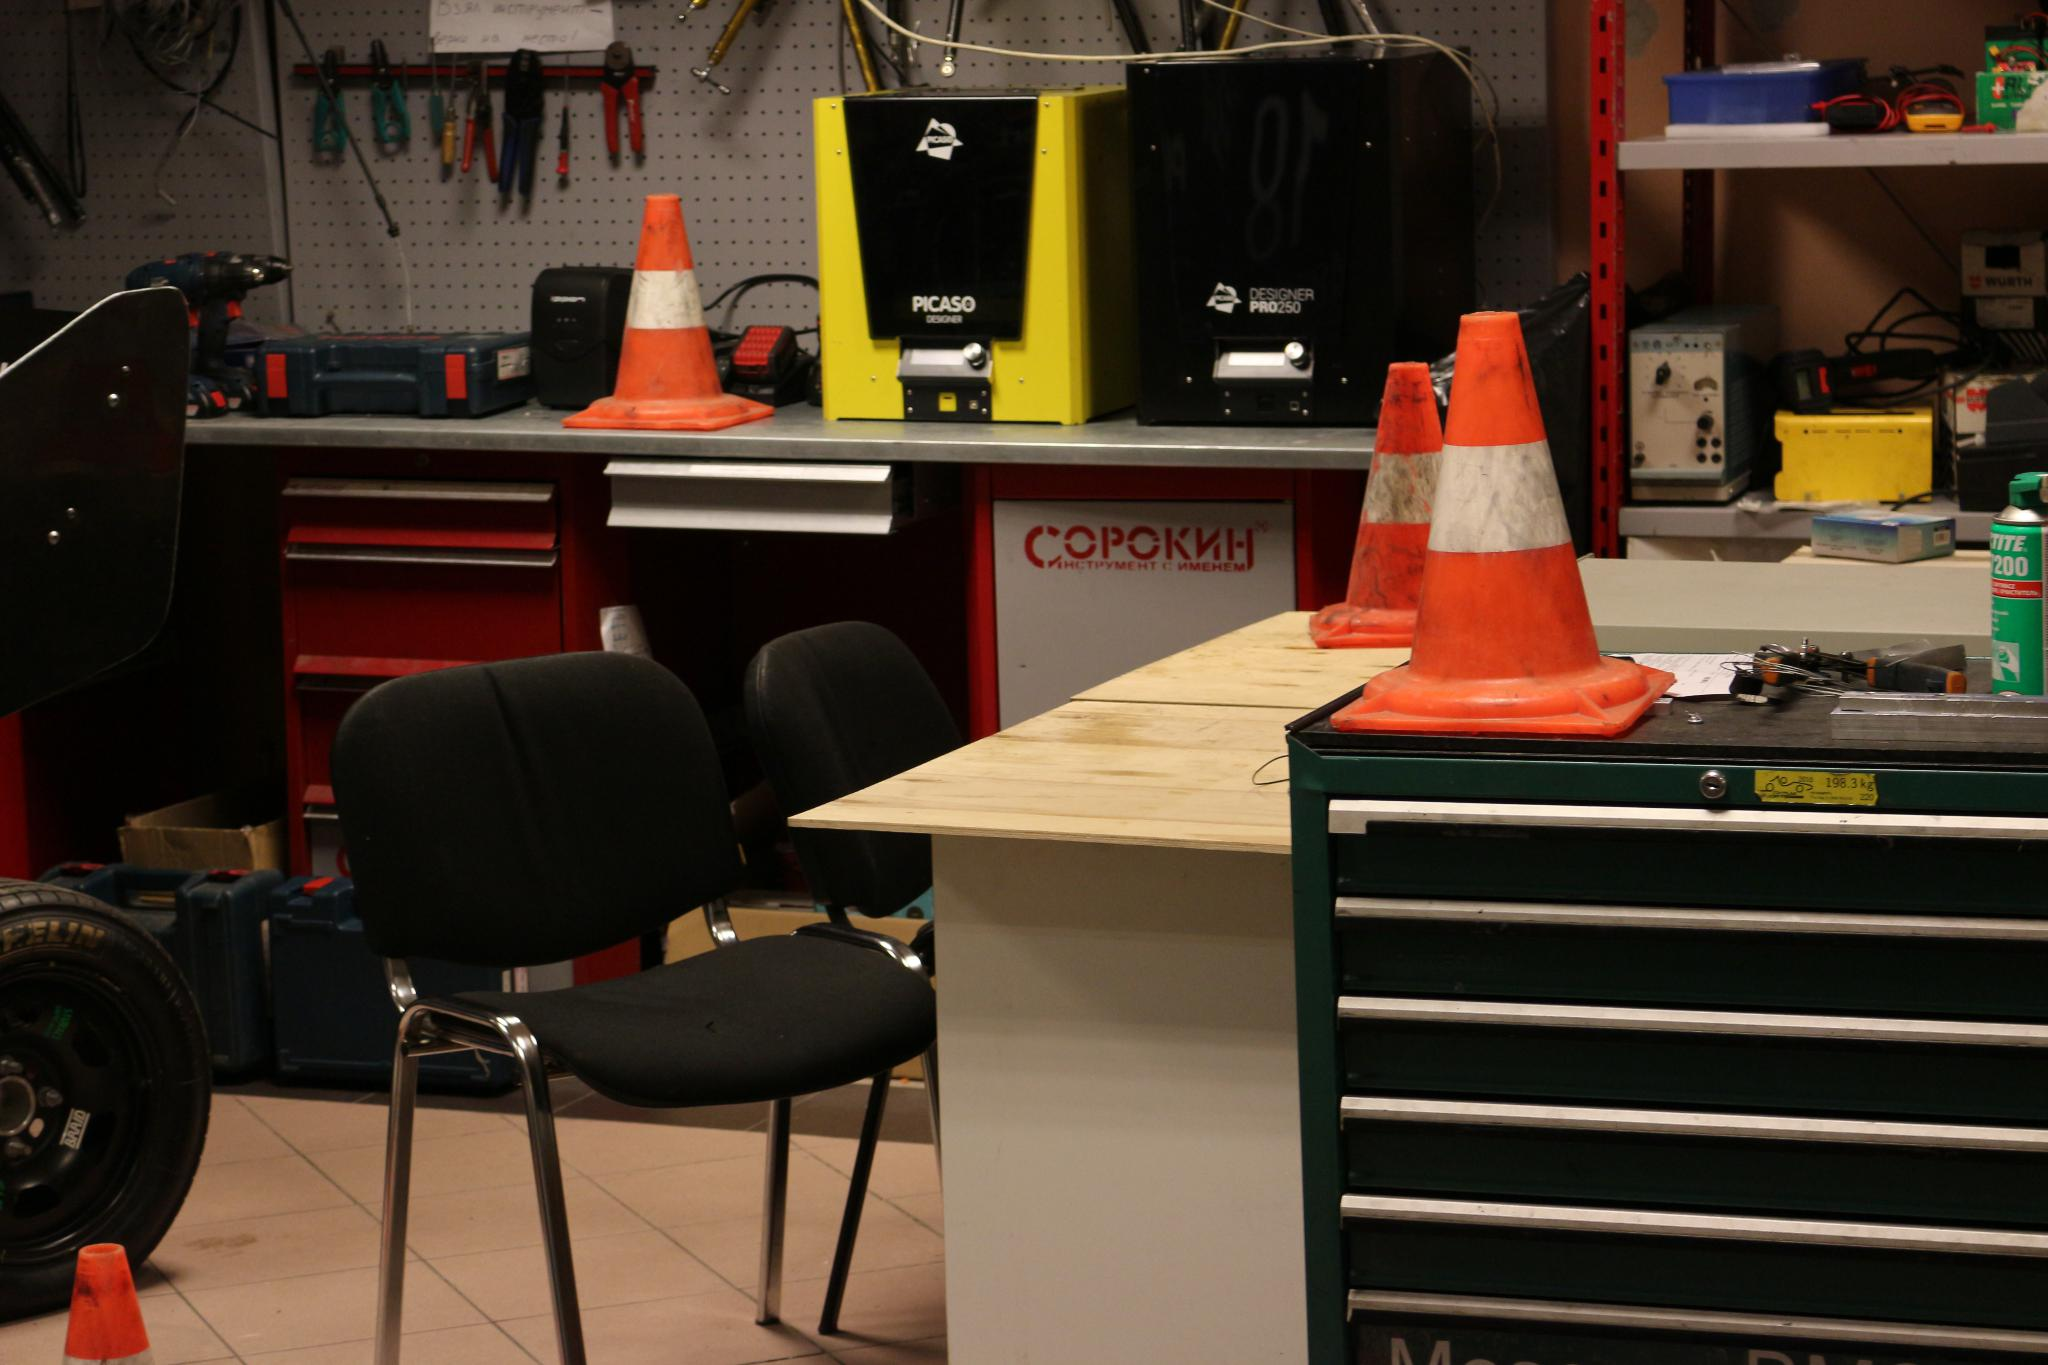Orange_Cone: (1338, 292, 1664, 725), (1297, 356, 1510, 638), (573, 193, 766, 439), (43, 1242, 158, 1360)
